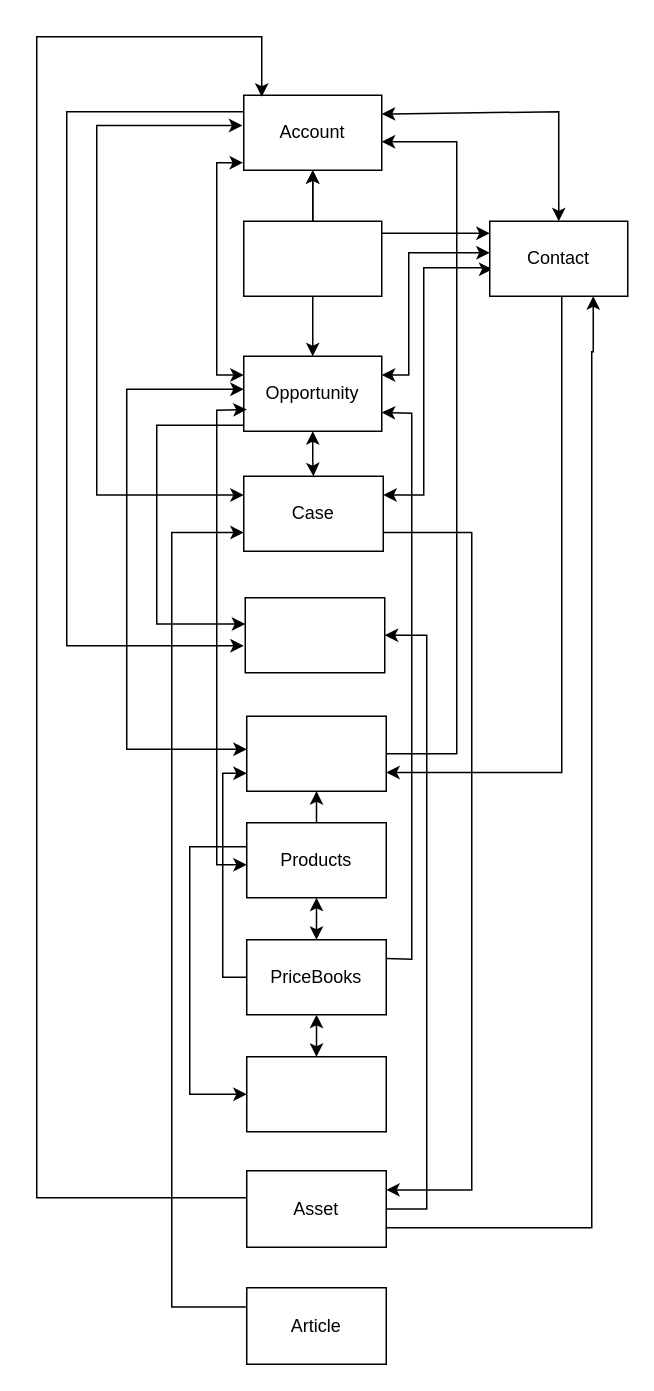
This 654x1391 diagram has some shape labels left out. Here are the shapes that lost their labels. From the top down, the centre of each, then its label:
point (312, 258): Lead
point (314, 634): Contacts
point (315, 753): Quotes
point (315, 1093): Orders
